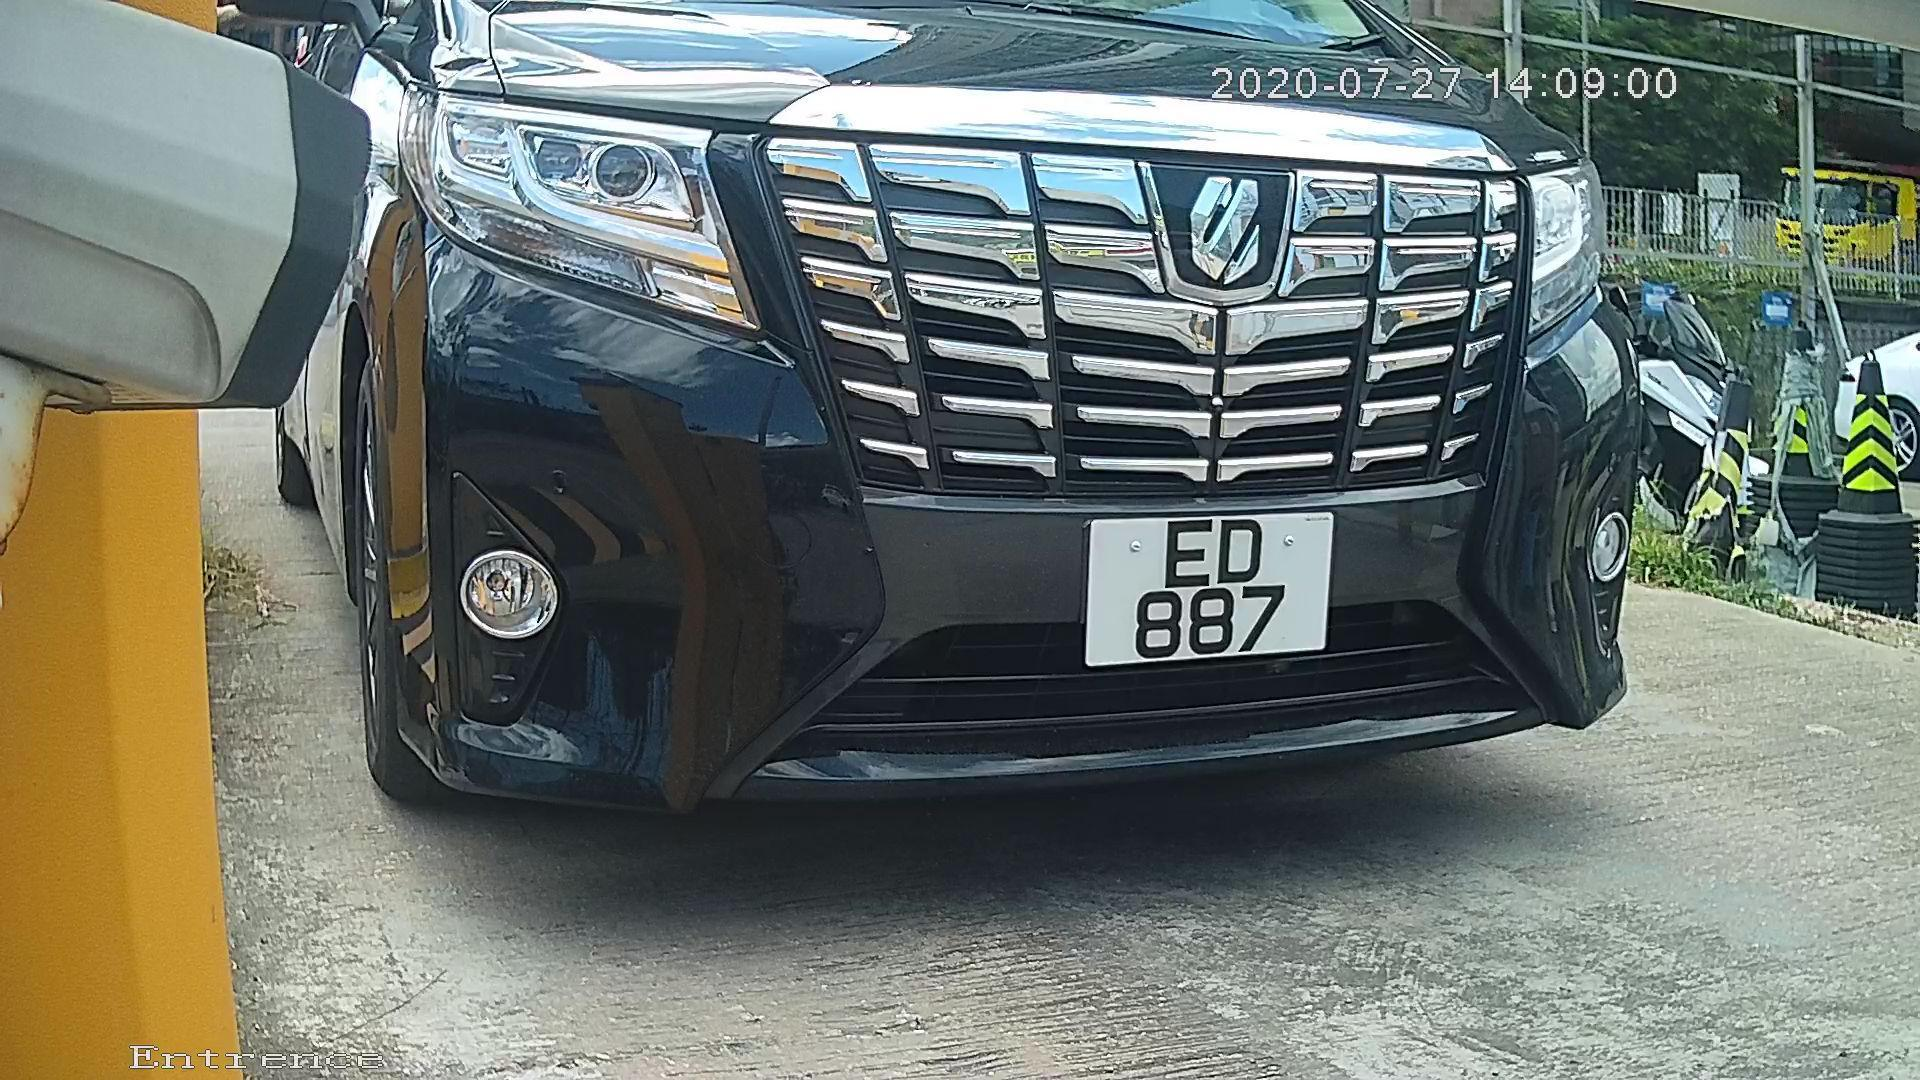privatecar: (164, 20, 1809, 864)
